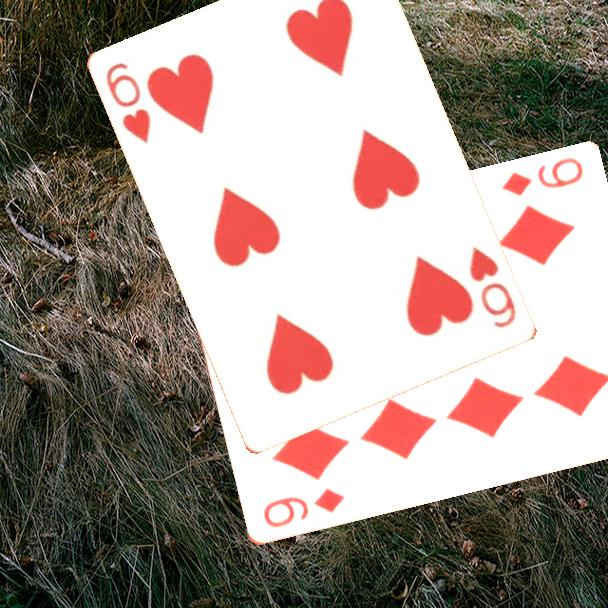d09: (259, 484, 347, 531), (497, 154, 586, 200)
h06: (466, 243, 520, 332), (103, 59, 155, 147)
